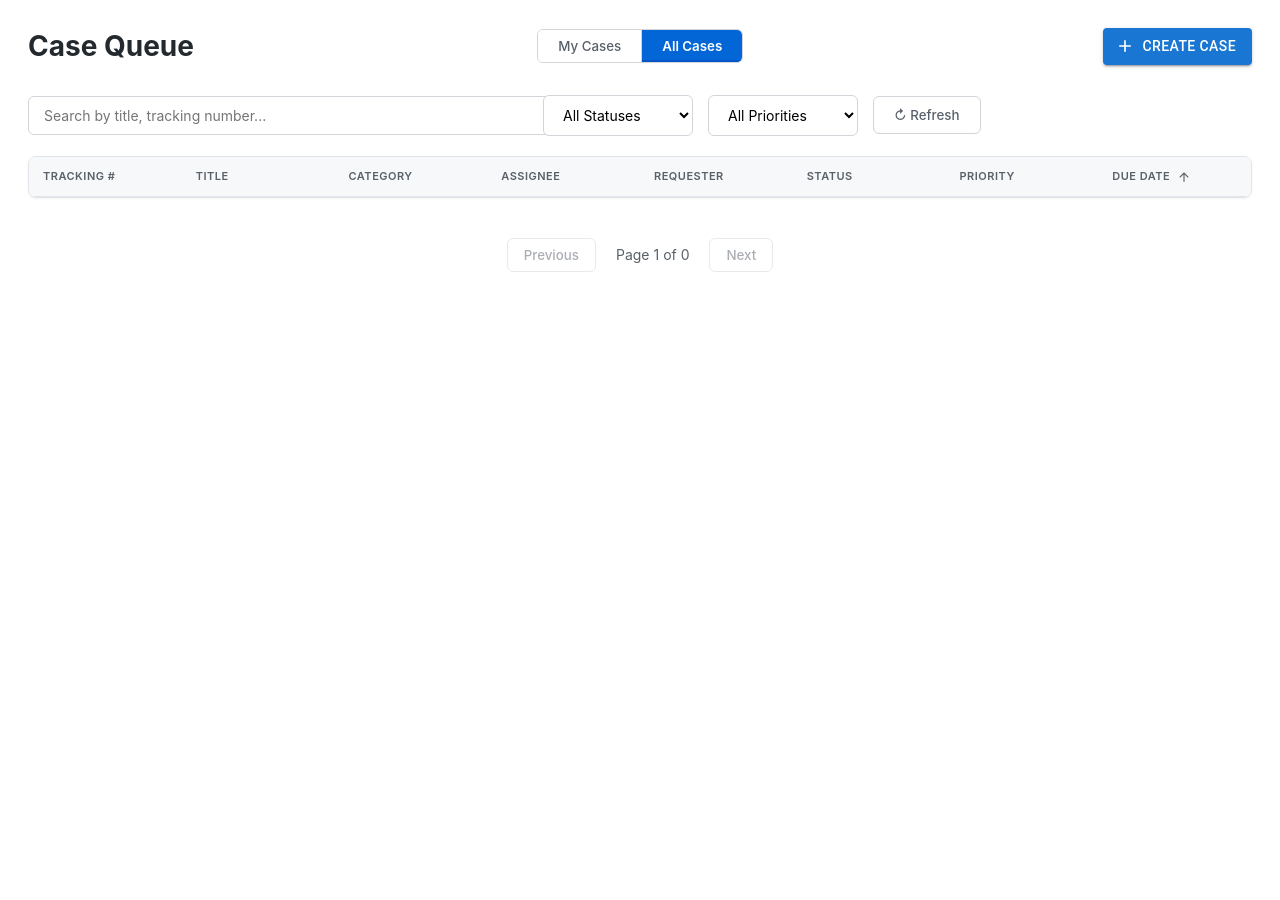
Test: CaseQueue — Create Case dialog › Cancel closes the dialog
The width and height of the screenshot is (1280, 900).
What coordinates should you click on to do the following:
click the button "Create Case"
I would click on:
 (1177, 46)
Its box is x1=1102 y1=28 x2=1252 y2=64.
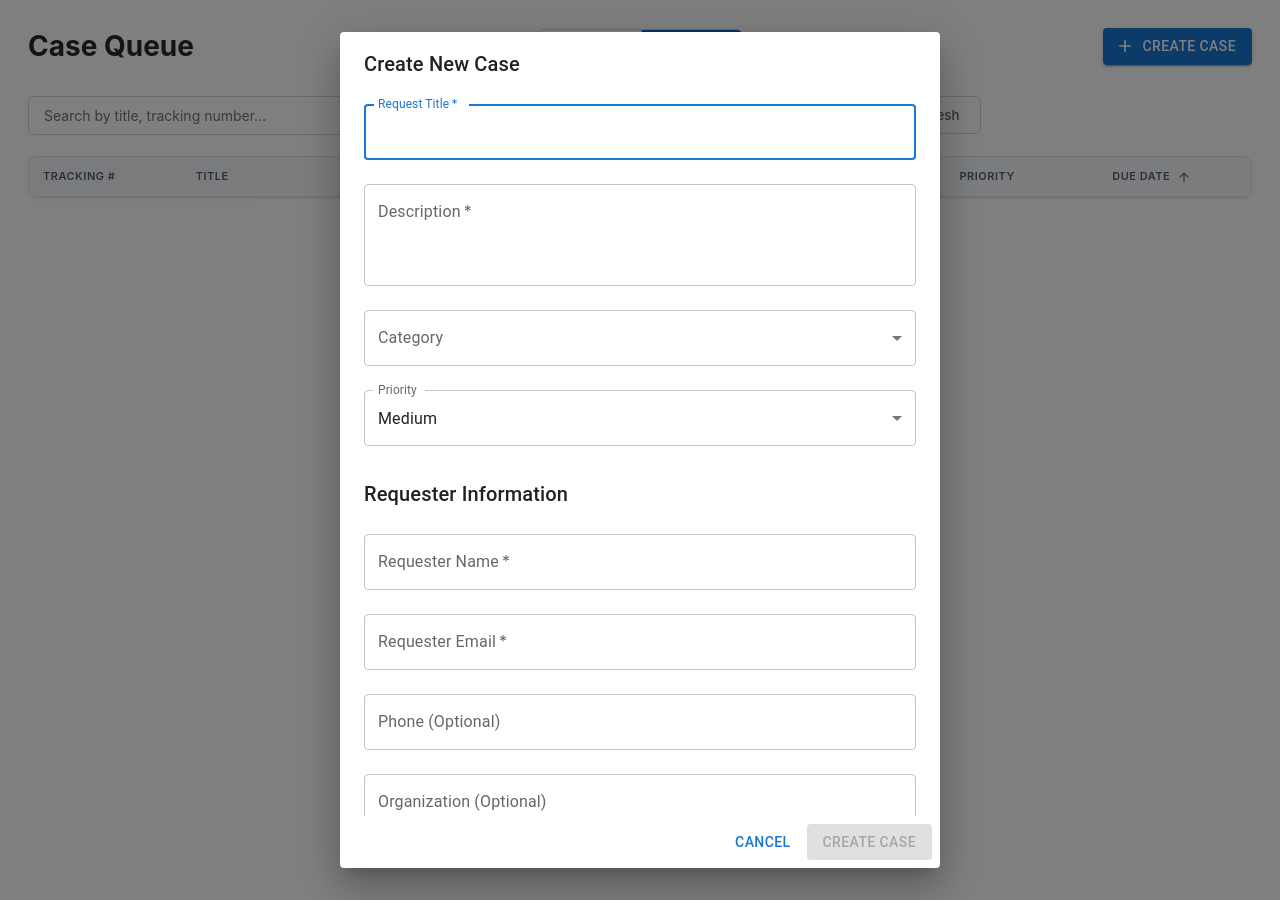
What coordinates should you click on to do the following:
click the button "Cancel"
I would click on:
 (763, 842)
Its box is x1=727 y1=824 x2=799 y2=860.
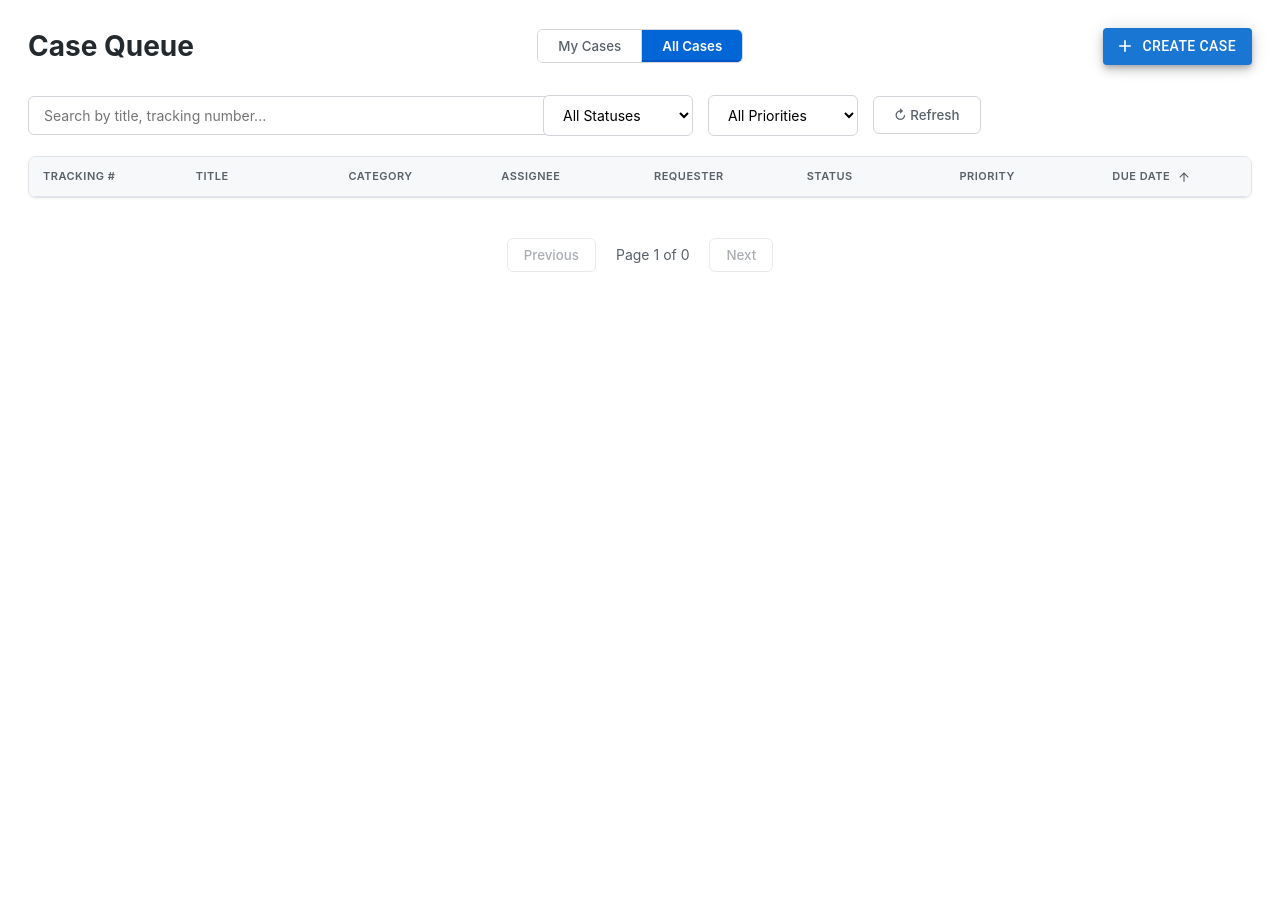
Result: the heading "Create New Case" is gone
